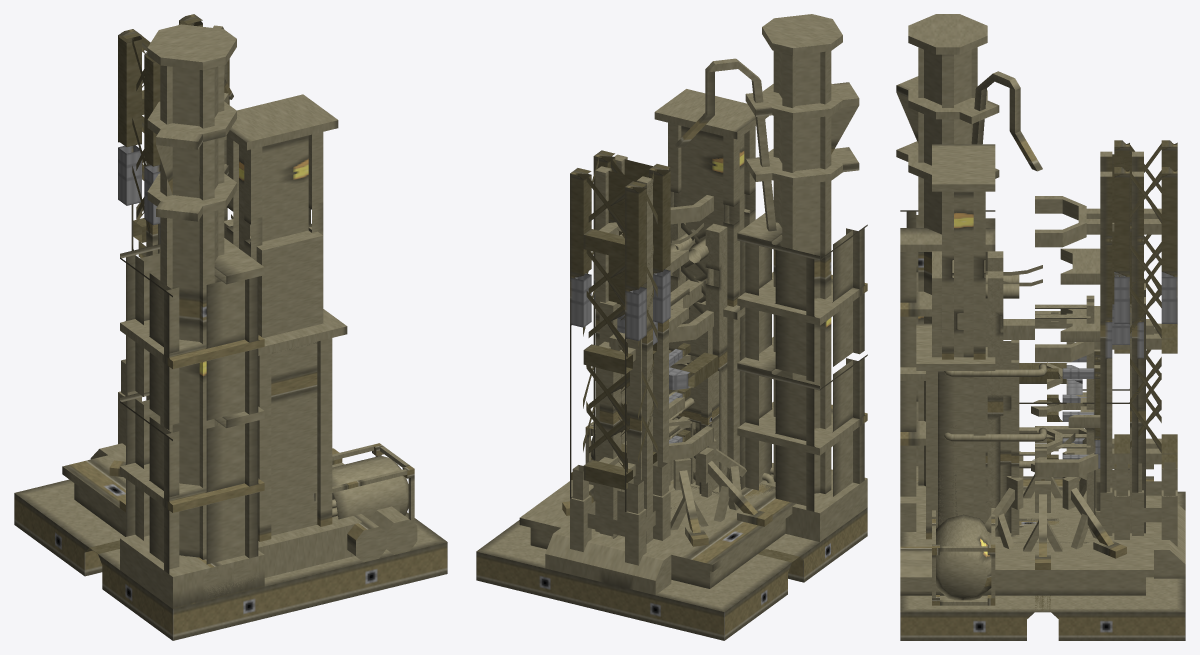
The model's file is launch_pad_erector.obj.
3 views of the same model, side by side, from view 1: azimuth 30°, elevation 25°; view 2: azimuth 150°, elevation 25°; view 3: azimuth 270°, elevation 25° (orthographic). The views are drawn at different scales.
Parts seen in each view (by area): view 1: Atlas_Pad, Huge_Pad, Strong_Pad, Pad, Atlas_Erector, V2_Pad, Atlas_Pivot; view 2: Atlas_Pad, Atlas_Erector, Pad, Huge_Pad, Huge_Erector, Atlas_Pivot, Strong_Erector, ABM_Pad, Micro_Pad, Atlas_Rope, V2_Erector, V2_Pad (+5 smaller); view 3: Atlas_Pad, Huge_Pad, Atlas_Erector, Pad, Huge_Erector, V2_Pad, Strong_Pad, ABM_Pad, Micro_Pad, Atlas_Pivot, V2_Erector, Strong_Erector (+6 smaller).
Part boxes in pixels (<box>): Atlas_Pad: <box>62,24,399,608</box>; Huge_Pad: <box>119,94,361,577</box>; Strong_Pad: <box>118,227,417,595</box>; Pad: <box>14,479,447,640</box>; Atlas_Erector: <box>118,14,229,257</box>; V2_Pad: <box>312,443,414,522</box>; Atlas_Pivot: <box>118,359,149,445</box>; Atlas_Pad: <box>519,14,867,595</box>; Atlas_Erector: <box>570,150,713,511</box>; Pad: <box>476,507,867,640</box>; Huge_Pad: <box>610,89,775,551</box>; Huge_Erector: <box>595,154,688,500</box>; Atlas_Pivot: <box>570,461,670,565</box>; Strong_Erector: <box>599,301,718,496</box>; ABM_Pad: <box>670,222,727,517</box>; Micro_Pad: <box>669,308,719,509</box>; Atlas_Rope: <box>675,58,776,231</box>; V2_Erector: <box>626,343,690,443</box>; V2_Pad: <box>585,258,717,526</box>; Atlas_Pad: <box>896,14,1185,595</box>; Huge_Pad: <box>916,144,1153,546</box>; Atlas_Erector: <box>1035,140,1177,496</box>; Pad: <box>900,491,1185,640</box>; Huge_Erector: <box>1060,151,1143,492</box>; V2_Pad: <box>932,298,1086,605</box>; Strong_Pad: <box>900,251,1122,595</box>; ABM_Pad: <box>985,251,1074,536</box>; Micro_Pad: <box>985,340,1061,534</box>; Atlas_Pivot: <box>1114,462,1177,546</box>; V2_Erector: <box>1047,349,1100,511</box>; Strong_Erector: <box>1019,283,1153,490</box>.
Size of the model in its own units: 9.12 by 17.75 by 9.12.
